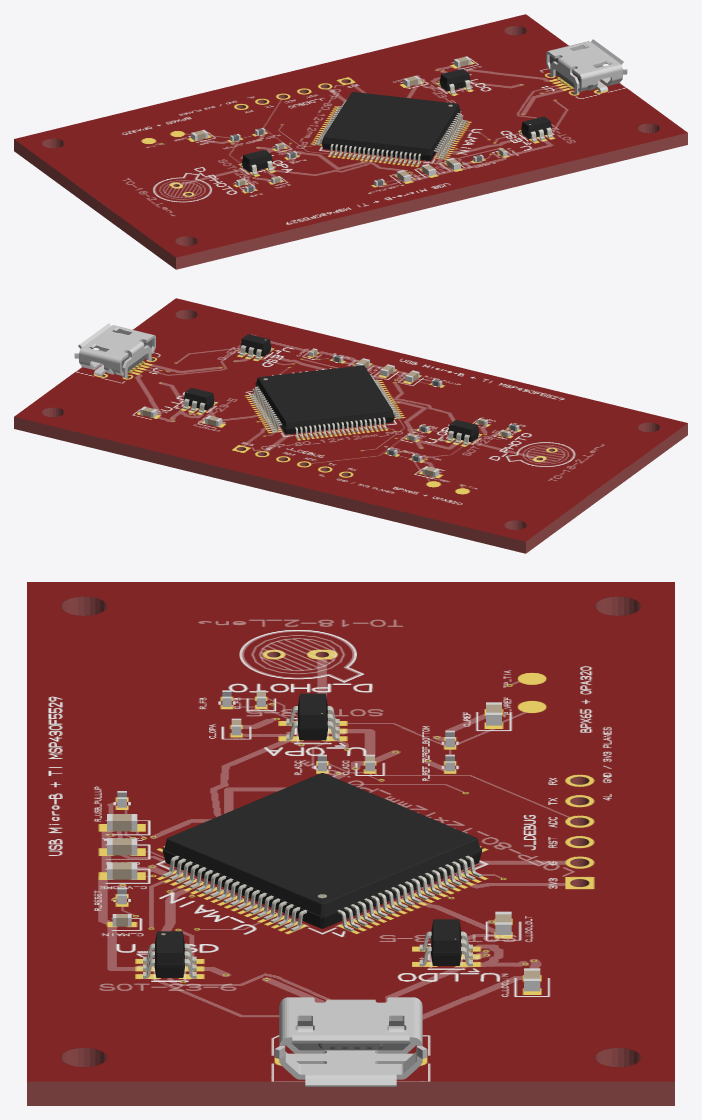
The picture shows the model from 3 angles, top to bottom: view 1: azimuth 30°, elevation 25°; view 2: azimuth 150°, elevation 25°; view 3: azimuth 270°, elevation 25°; orthographic projection. The views are drawn at different scales.
Visible parts, largest first — view 1: Box0, U_MAIN, J1, U_ESD, U_LDO, U_OPA; view 2: Box0, U_MAIN, J1, U_ESD, U_LDO, U_OPA; view 3: Box0, U_MAIN, J1, U_ESD, U_OPA, U_LDO.
Part boxes in pixels (left/top/right/bottom): Box0: left=14, top=14, right=687, bottom=269; U_MAIN: left=314, top=92, right=467, bottom=165; J1: left=546, top=39, right=627, bottom=94; U_ESD: left=520, top=116, right=553, bottom=141; U_LDO: left=438, top=69, right=471, bottom=94; U_OPA: left=240, top=149, right=273, bottom=175; Box0: left=14, top=298, right=687, bottom=553; U_MAIN: left=248, top=365, right=401, bottom=438; J1: left=74, top=323, right=155, bottom=378; U_ESD: left=239, top=334, right=272, bottom=359; U_LDO: left=182, top=387, right=215, bottom=413; U_OPA: left=447, top=419, right=480, bottom=445; Box0: left=27, top=582, right=674, bottom=1105; U_MAIN: left=162, top=773, right=482, bottom=931; J1: left=274, top=997, right=427, bottom=1086; U_ESD: left=143, top=931, right=196, bottom=978; U_OPA: left=286, top=693, right=339, bottom=740; U_LDO: left=419, top=919, right=472, bottom=966.
Size of the model in its own units: 62.29 by 4.13 by 34.
13 materials, 2 textured.
